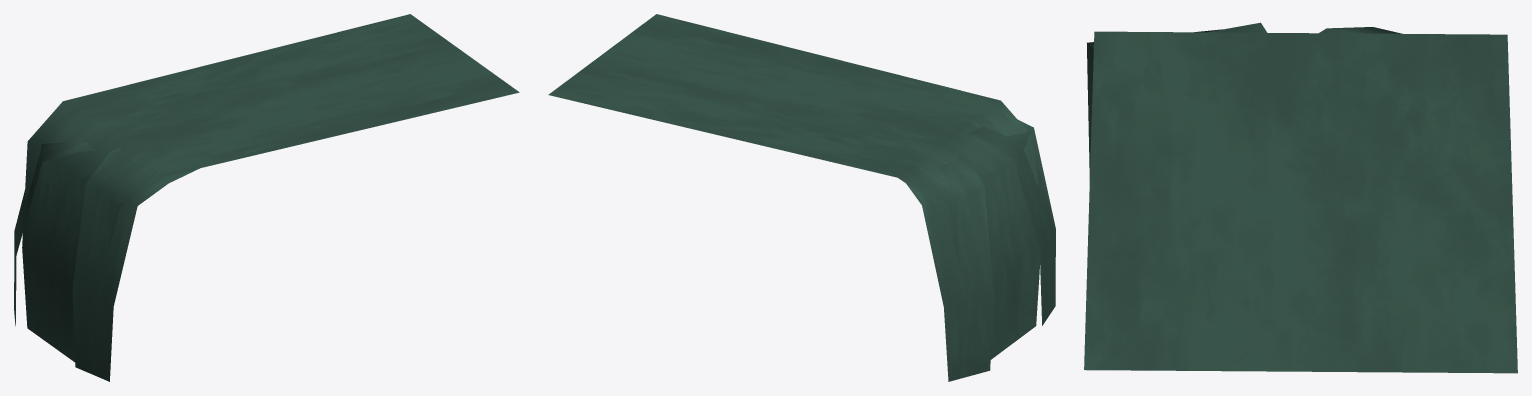
Rendered from Waterfall_Waterfall.fbx.
The picture shows the model from 3 angles, left to right: view 1: azimuth 30°, elevation 25°; view 2: azimuth 150°, elevation 25°; view 3: azimuth 270°, elevation 25°; orthographic projection. The views are drawn at different scales.
Visible parts, largest first — view 1: pPlane25; view 2: pPlane25; view 3: pPlane25.
Part boxes in pixels (x1,y1,x2,y2): pPlane25: [14, 14, 519, 381]; pPlane25: [548, 14, 1055, 381]; pPlane25: [1084, 22, 1517, 373].
Bounding box in the file's own units: 28.97 × 13.06 × 13.02.
1 material, 1 textured.
